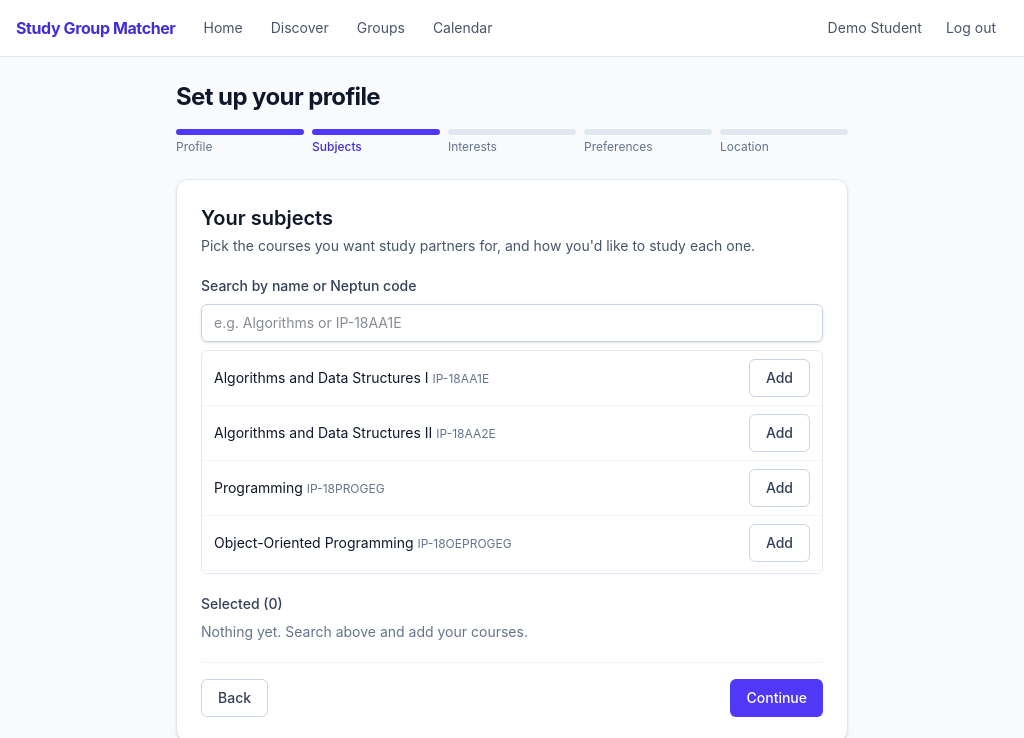
Scenario: Onboarding: subjects step › requires at least one subject
The width and height of the screenshot is (1024, 738).
Click the button "Continue": (777, 698) [730, 679, 823, 717]
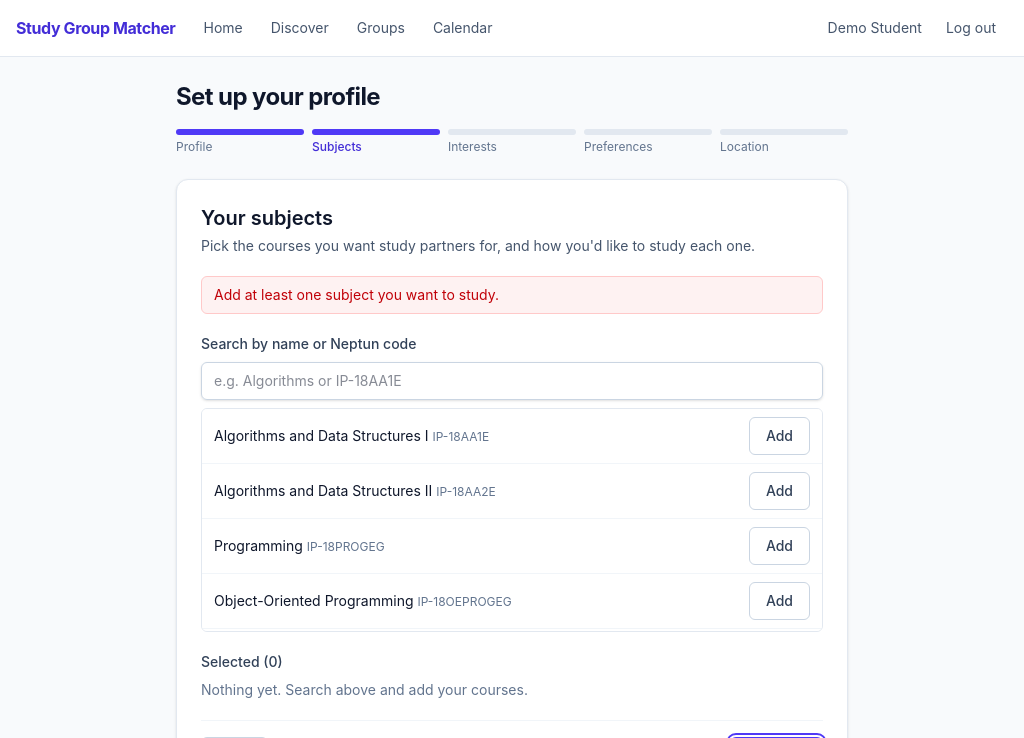
Expected: the message shows "Add at least one subject", [214, 286, 499, 303]
